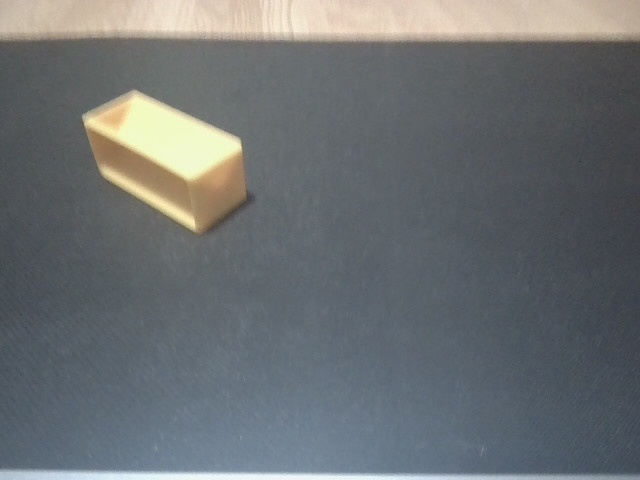YellowSample: (77, 85, 250, 238)
